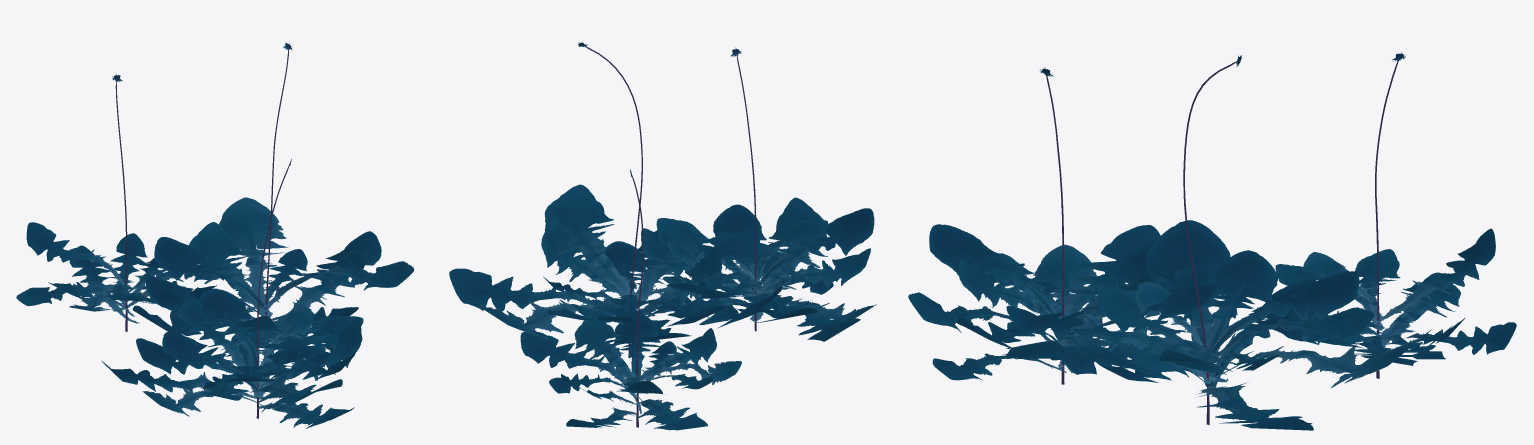
3 renders of one model, left to right at view 1: azimuth 30°, elevation 25°; view 2: azimuth 150°, elevation 25°; view 3: azimuth 270°, elevation 25°, orthographic. The views are drawn at different scales.
Visible parts, largest first — view 1: SM_FH_Dandelion_02_LOD0; view 2: SM_FH_Dandelion_02_LOD0; view 3: SM_FH_Dandelion_02_LOD0.
Boxes of the visible parts, x1,y1,x2,y2 form: SM_FH_Dandelion_02_LOD0: (16,43,413,428); SM_FH_Dandelion_02_LOD0: (449,42,876,430); SM_FH_Dandelion_02_LOD0: (908,52,1516,430).
Size of the model in its own units: 0.5808 by 0.5457 by 0.719.
Materials: 1 (1 with a texture image).
